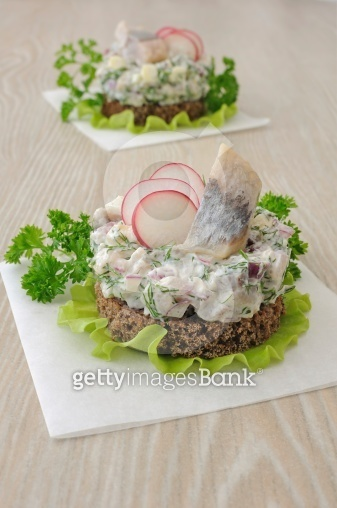chopped lettuce: (223, 351, 263, 371)
